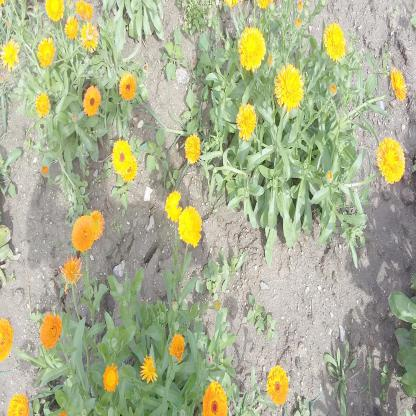marigold: (274, 64, 304, 112), (376, 136, 406, 184), (237, 26, 266, 72), (178, 204, 202, 248), (266, 364, 289, 407), (323, 21, 346, 61), (39, 311, 62, 350), (60, 254, 82, 292), (236, 102, 256, 141), (112, 138, 132, 176), (72, 214, 93, 250), (0, 38, 21, 72), (390, 65, 408, 103), (36, 37, 57, 69), (83, 85, 101, 118), (87, 209, 105, 242), (165, 189, 182, 222), (80, 21, 98, 52), (184, 132, 201, 164), (119, 71, 136, 100), (103, 362, 118, 394), (120, 154, 137, 182), (45, 0, 64, 22), (35, 92, 51, 118), (64, 15, 78, 40), (80, 2, 93, 20)
